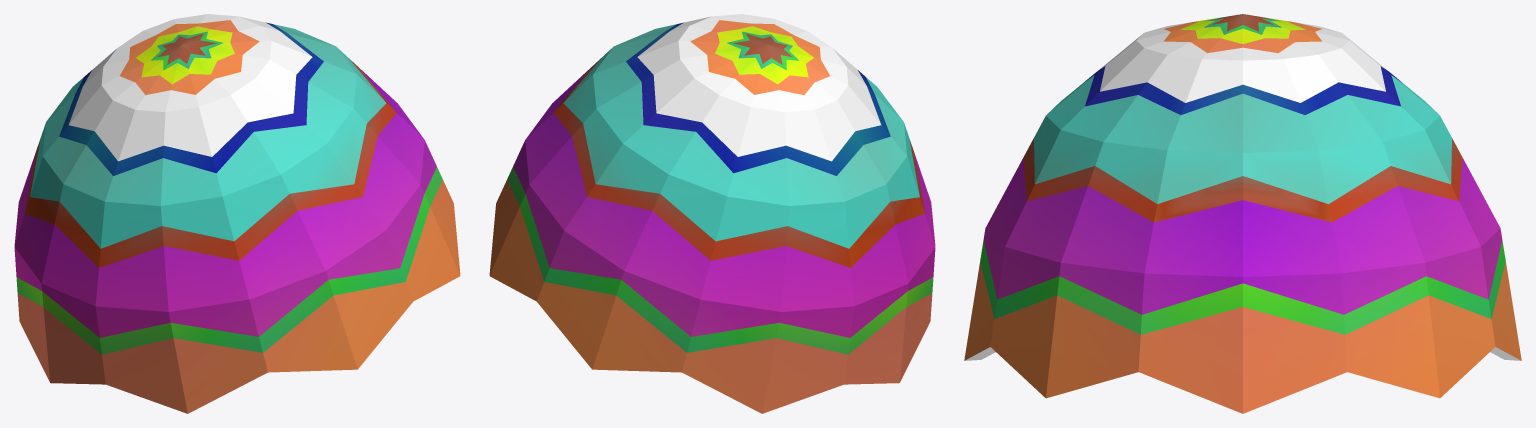
Rendered from PAINTED EGG HAT.fbx.
The picture shows the model from 3 angles, left to right: view 1: azimuth 30°, elevation 25°; view 2: azimuth 150°, elevation 25°; view 3: azimuth 270°, elevation 25°; orthographic projection. The views are drawn at different scales.
Parts seen in each view (by area): view 1: PAINTED_EGG_HAT; view 2: PAINTED_EGG_HAT; view 3: PAINTED_EGG_HAT.
Boxes of the visible parts, x1,y1,x2,y2 form: PAINTED_EGG_HAT: (14, 14, 460, 413); PAINTED_EGG_HAT: (489, 14, 935, 413); PAINTED_EGG_HAT: (964, 14, 1521, 413).
Bounding box in the file's own units: 25.96 × 19.26 × 26.17.
